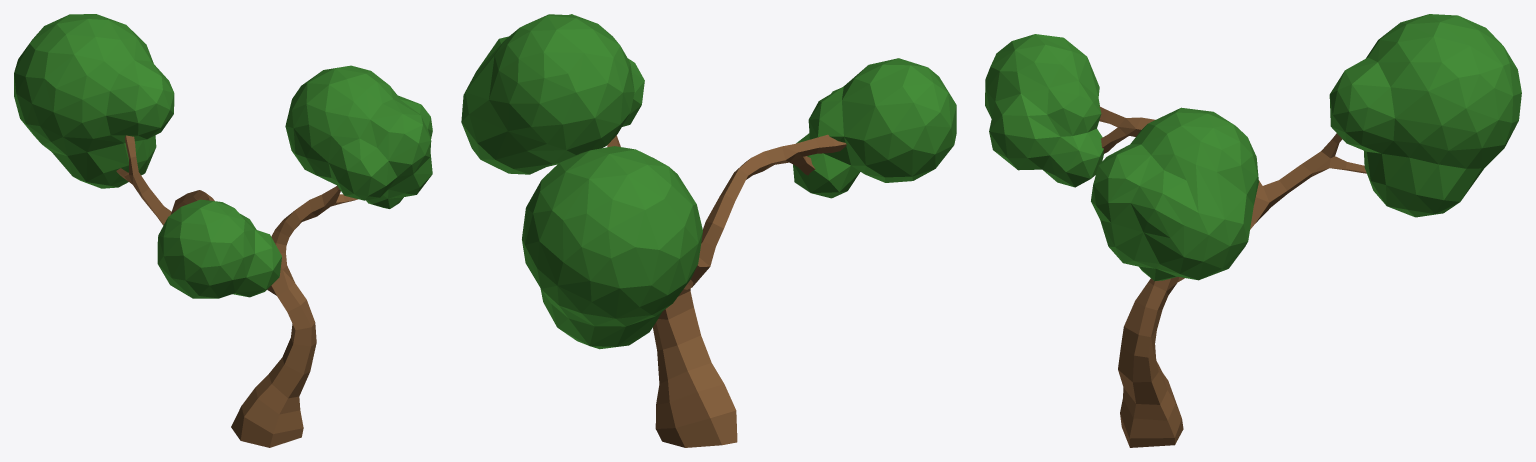
The model's file is tree2.glb.
3 views of the same model, side by side, from view 1: azimuth 30°, elevation 25°; view 2: azimuth 150°, elevation 25°; view 3: azimuth 270°, elevation 25° (orthographic). The views are drawn at different scales.
Visible parts, largest first — view 1: LowPoly Tree 03; view 2: LowPoly Tree 03; view 3: LowPoly Tree 03.
Boxes of the visible parts, x1,y1,x2,y2 form: LowPoly Tree 03: [14, 14, 432, 447]; LowPoly Tree 03: [461, 14, 956, 447]; LowPoly Tree 03: [985, 14, 1521, 447].
Bounding box in the file's own units: 3.25 × 3.25 × 4.13.
